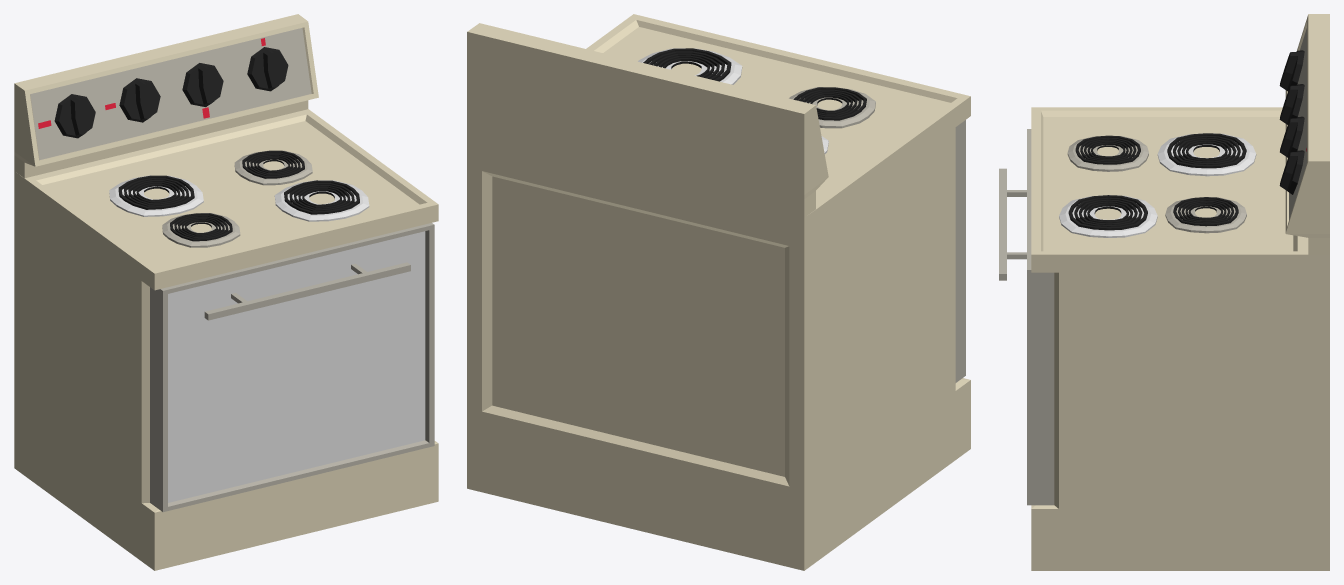
File: fogon.fbx
3 views of the same model, side by side, from view 1: azimuth 30°, elevation 25°; view 2: azimuth 150°, elevation 25°; view 3: azimuth 270°, elevation 25° (orthographic). The views are drawn at different scales.
Parts seen in each view (by area): view 1: cuerpo, fuegosG, fuegosP, mango, dimmer2, dimmer4, dimmer1, dimer3; view 2: cuerpo, fuegosP, fuegosG; view 3: cuerpo, fuegosG, fuegosP, mango, dimmer4, dimer3, dimmer1, dimmer2.
Part boxes in pixels (<box>): cuerpo: <box>14,14,438,570</box>; fuegosG: <box>109,175,369,221</box>; fuegosP: <box>162,150,312,247</box>; mango: <box>204,262,410,320</box>; dimmer2: <box>119,78,160,122</box>; dimmer4: <box>247,47,288,91</box>; dimmer1: <box>54,94,95,138</box>; dimer3: <box>182,63,223,107</box>; cuerpo: <box>467,14,970,570</box>; fuegosP: <box>789,87,875,128</box>; fuegosG: <box>638,48,828,154</box>; cuerpo: <box>1027,14,1329,570</box>; fuegosG: <box>1059,133,1256,237</box>; fuegosP: <box>1067,135,1246,233</box>; mango: <box>999,168,1026,280</box>; dimmer4: <box>1279,150,1304,194</box>; dimer3: <box>1280,116,1304,157</box>; dimmer1: <box>1279,50,1304,91</box>; dimmer2: <box>1279,84,1304,124</box>.
Size of the model in its own units: 200 by 259 by 190.
